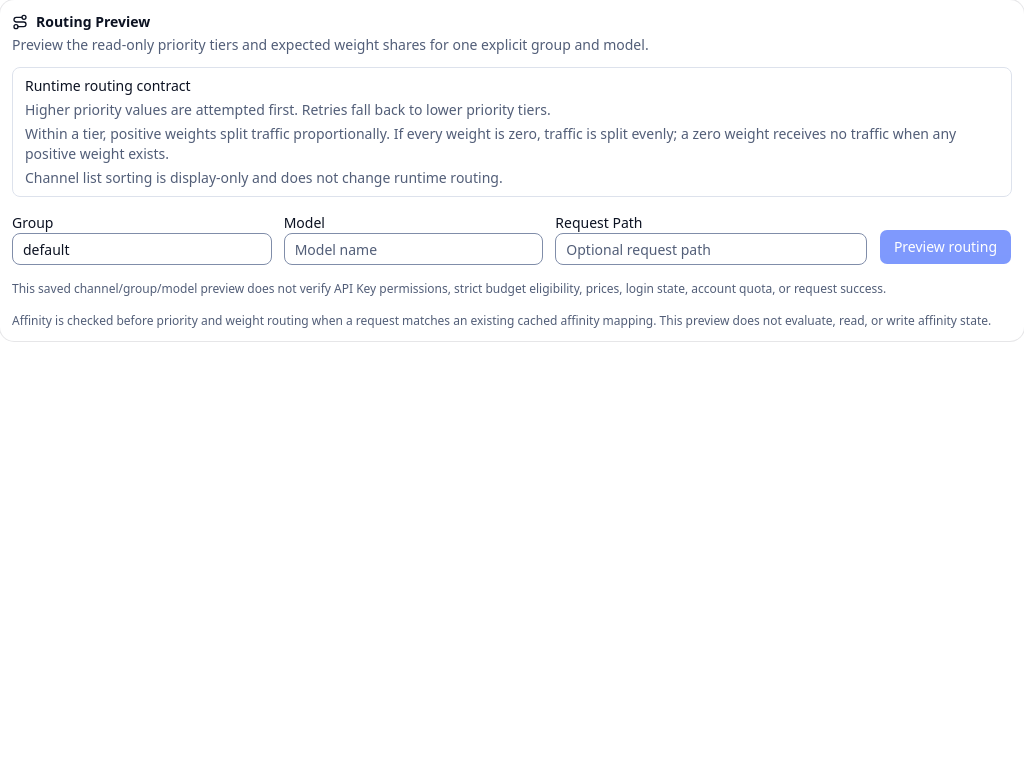
Test case: account scheduling preview › explicit zero settings show disabled rather than a finite deadline or cooldown
The width and height of the screenshot is (1024, 768).
In the field named "Routing preview model": {"x": 413, "y": 249} [284, 233, 543, 265], type "public-model"
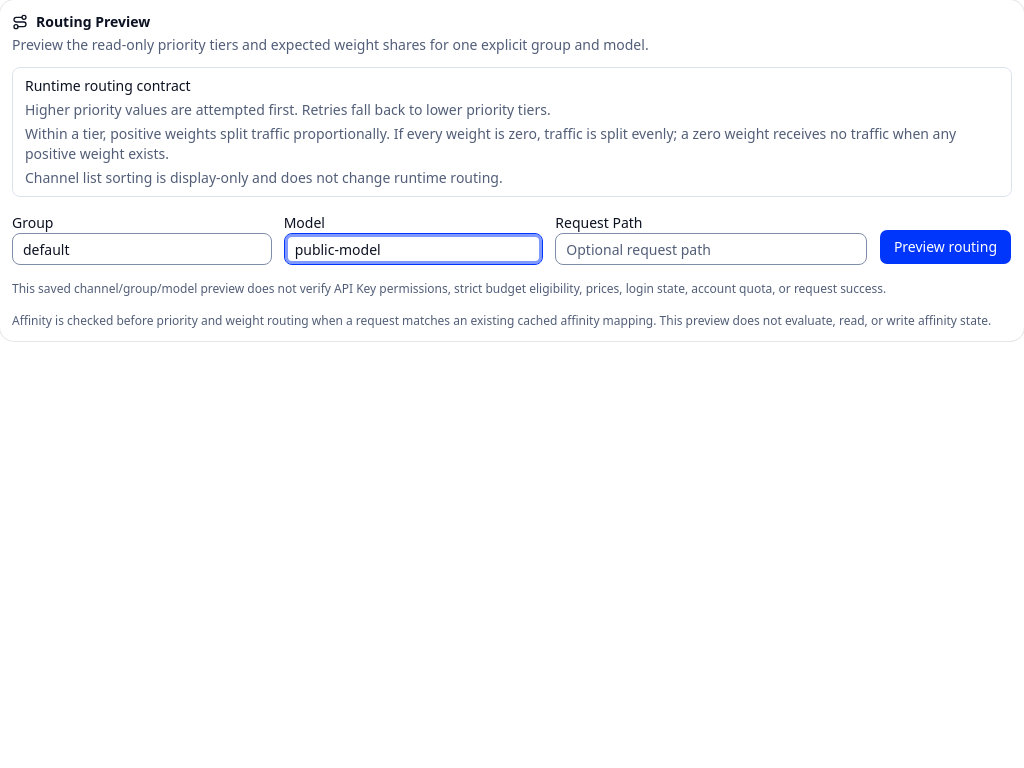
Click the button "Preview routing": {"x": 945, "y": 247} [879, 229, 1012, 265]
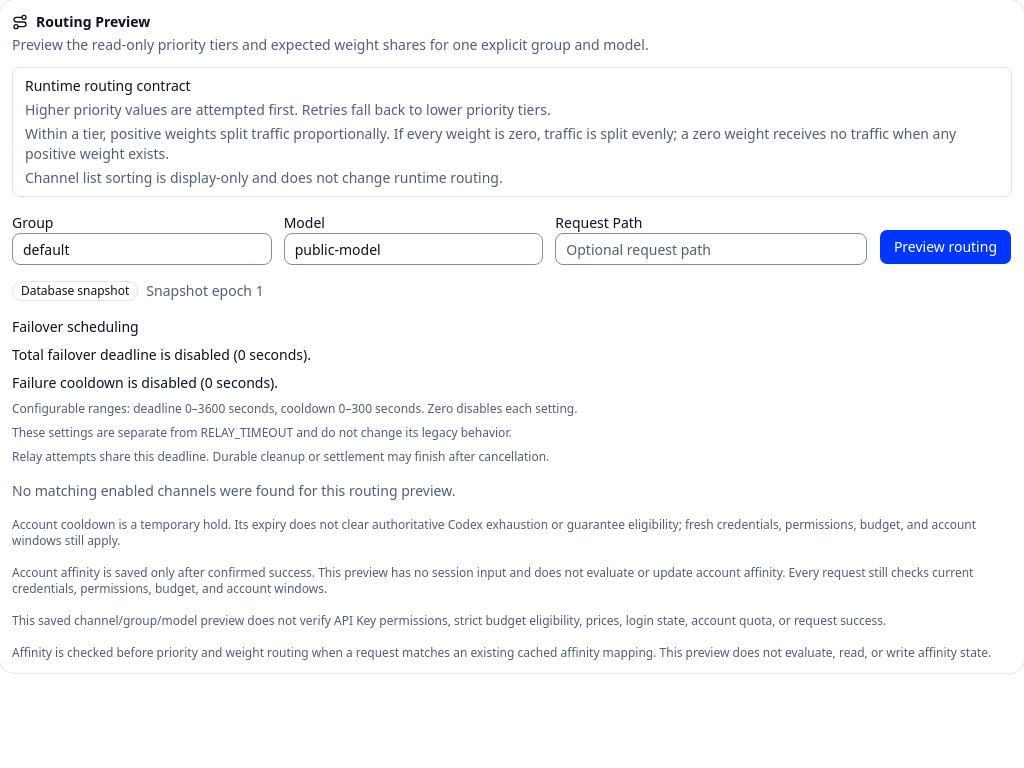
Expected: the text "Total failover deadline is disabled (0 seconds)." is shown, [12, 345, 311, 364]
Expected: the text "Failure cooldown is disabled (0 seconds)." is shown, [12, 373, 278, 392]
